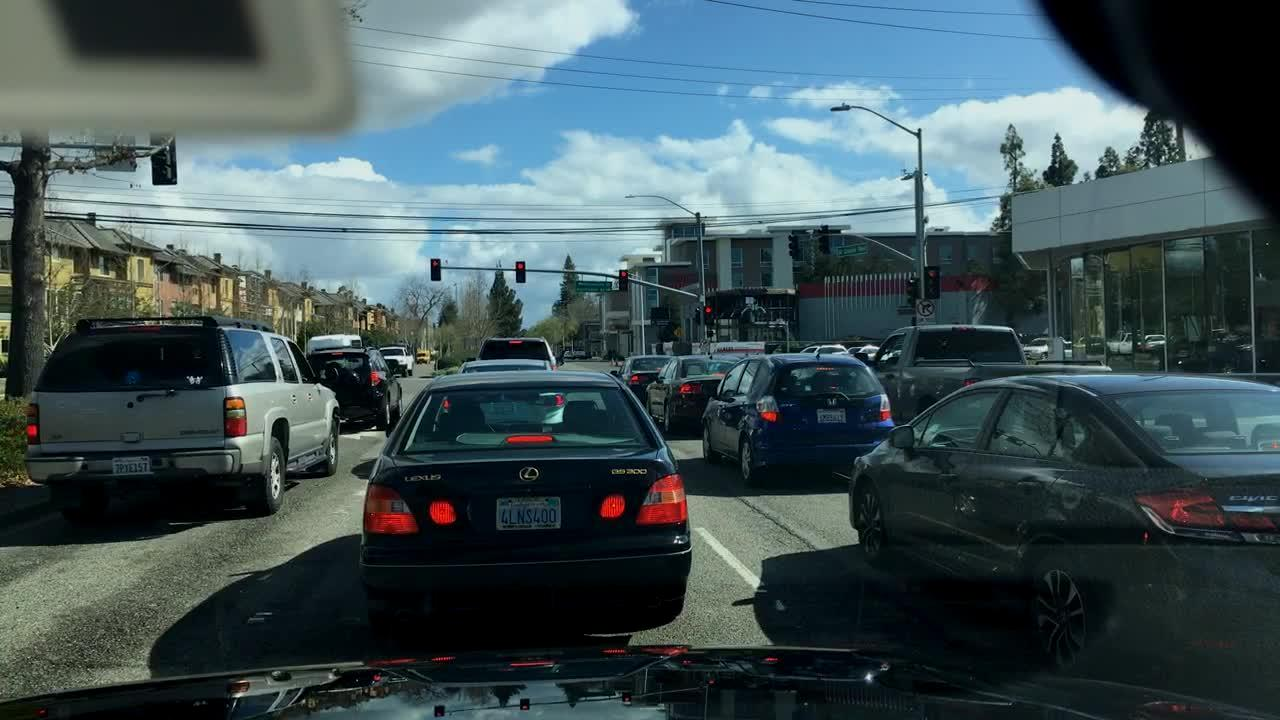Honda: (824, 392, 842, 410)
lexus: (511, 457, 546, 492)
